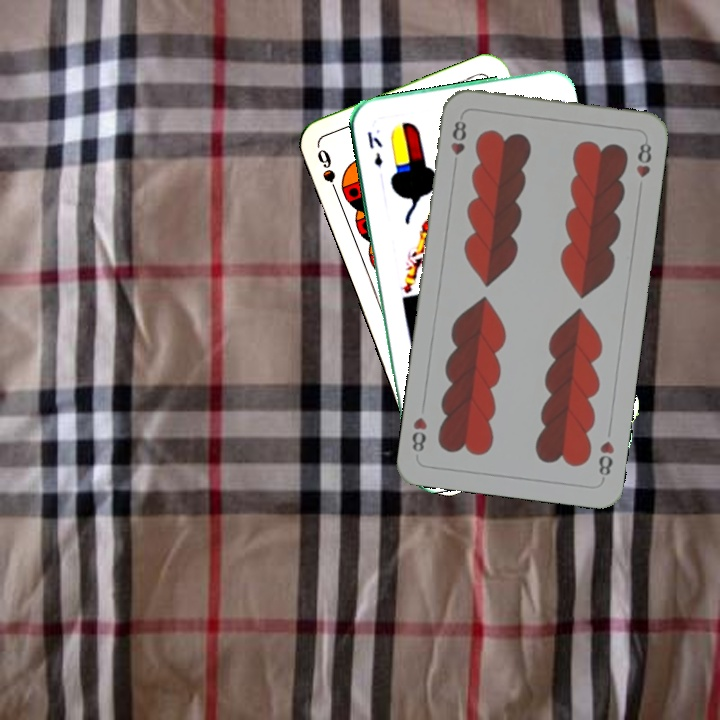EK: (363, 127, 386, 169)
H8: (447, 113, 469, 171), (595, 437, 617, 483)
S9: (313, 144, 342, 201)
